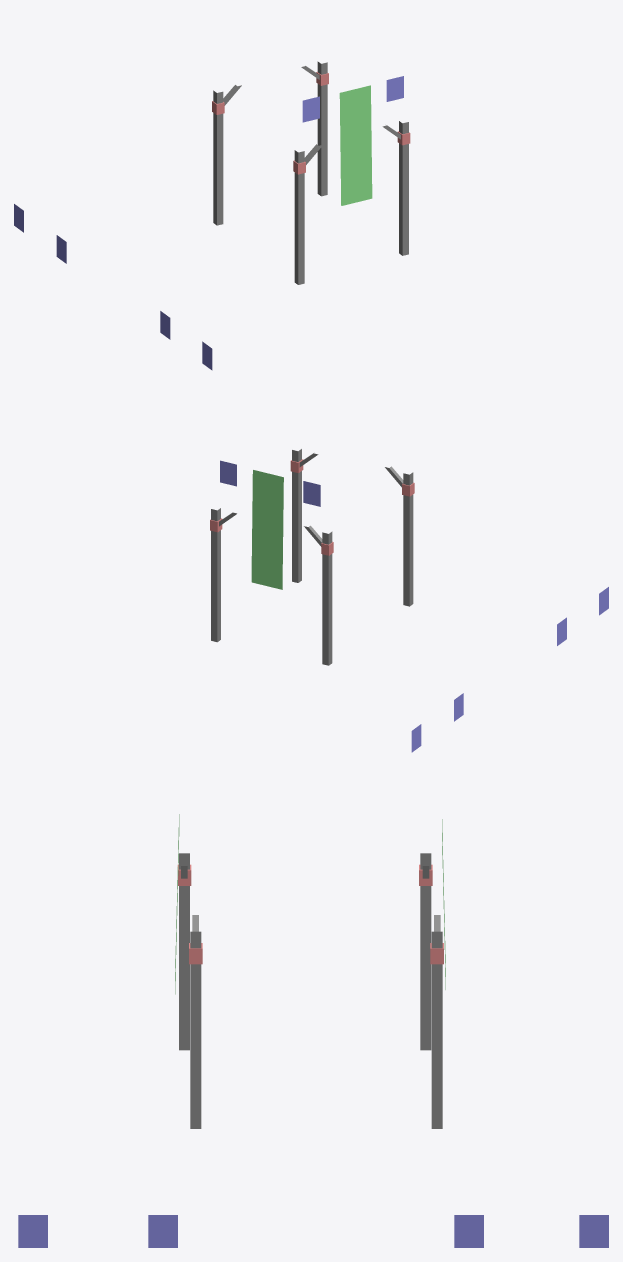
Rendered from L2fortress_02_s__Fort02_archer03.gltf.
The picture shows the model from 3 angles, top to bottom: view 1: azimuth 30°, elevation 25°; view 2: azimuth 150°, elevation 25°; view 3: azimuth 270°, elevation 25°; orthographic projection. The views are drawn at different scales.
Parts seen in each view (by area): view 1: Fort02_archer03; view 2: Fort02_archer03; view 3: Fort02_archer03.
Boxes of the visible parts, box(x1,y1,x2,y2) form: Fort02_archer03: box(14, 61, 410, 370); Fort02_archer03: box(210, 449, 608, 752); Fort02_archer03: box(18, 814, 608, 1247).
Bounding box in the file's own units: 4.97 × 2.3 × 4.33.
